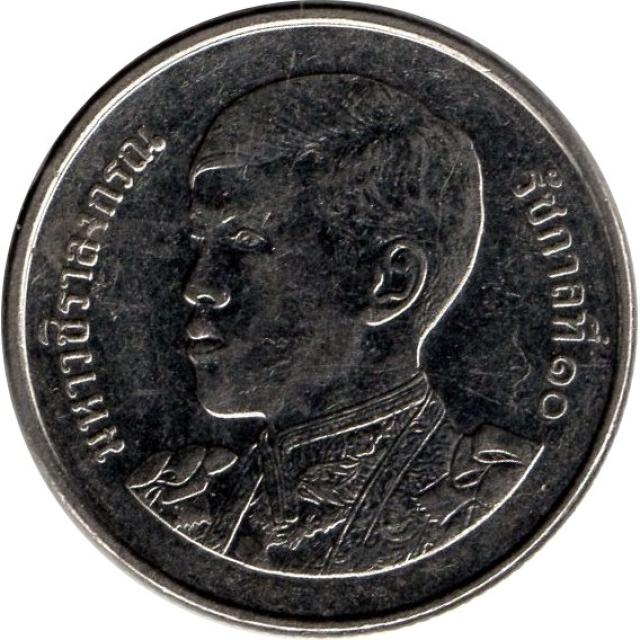1 Bath: (1, 1, 640, 640)
